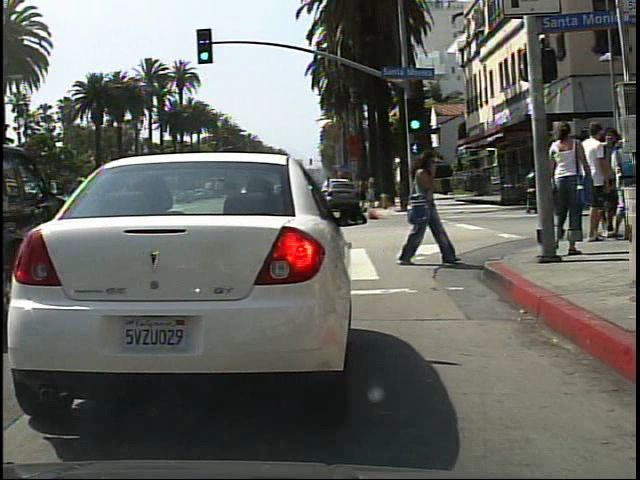person: (396, 143, 455, 272), (546, 121, 598, 262)
